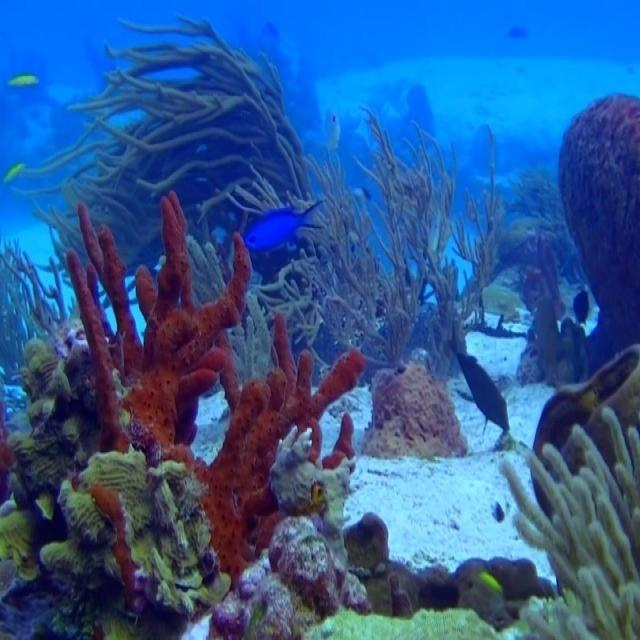aquatic plants: (15, 13, 312, 283), (253, 107, 504, 366), (0, 237, 65, 423)
fish: (452, 332, 508, 429), (243, 200, 324, 247), (2, 161, 27, 184), (8, 73, 37, 86)
reefs: (158, 314, 363, 580), (67, 191, 250, 452), (43, 454, 226, 638), (499, 407, 637, 638), (0, 326, 98, 577)
sea-floor: (208, 443, 562, 639), (516, 93, 639, 381), (361, 364, 472, 461)
